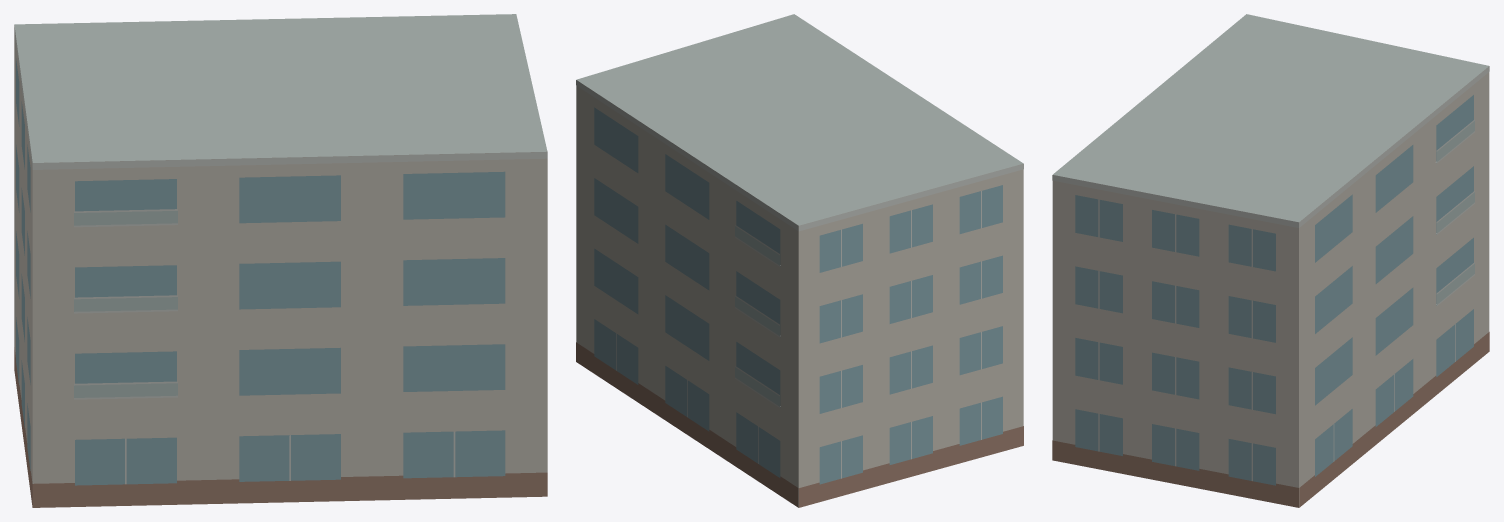
The model's file is survey-upis-32854332.glb.
3 renders of one model, left to right at view 1: azimuth 30°, elevation 25°; view 2: azimuth 150°, elevation 25°; view 3: azimuth 270°, elevation 25°, orthographic. The views are drawn at different scales.
Visible parts, largest first — view 1: survey-upis-32854332.tmp; view 2: survey-upis-32854332.tmp; view 3: survey-upis-32854332.tmp.
Boxes of the visible parts, x1,y1,x2,y2 form: survey-upis-32854332.tmp: (14,14,547,507); survey-upis-32854332.tmp: (576,14,1023,507); survey-upis-32854332.tmp: (1052,14,1489,507).
Size of the model in its own units: 18.78 by 12 by 16.65.
